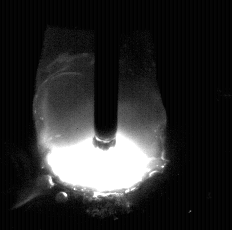arame: (95, 0, 119, 150)
poca: (36, 0, 165, 230)
